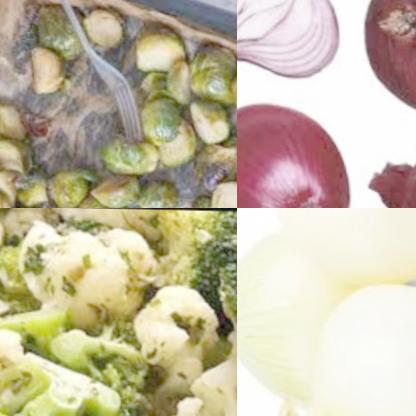broccoli: (163, 208, 237, 342), (0, 357, 82, 416)
brus capusta: (89, 21, 192, 171), (0, 15, 86, 152), (165, 60, 237, 208), (9, 162, 177, 208)
cayliflower: (0, 208, 169, 325), (118, 264, 237, 416)
onion: (263, 279, 416, 416), (237, 226, 340, 416), (237, 99, 355, 208), (263, 208, 416, 292), (237, 0, 348, 87), (350, 0, 416, 123), (358, 125, 416, 208)
